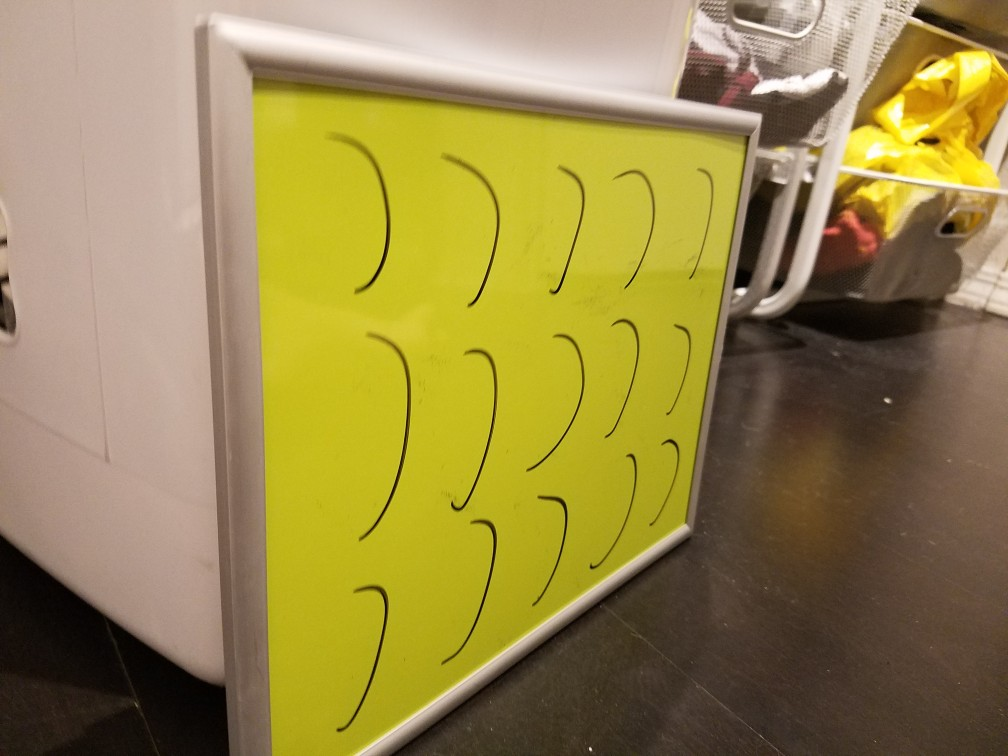): (341, 324, 424, 547), (317, 117, 399, 304), (435, 133, 509, 312), (320, 574, 399, 732), (523, 323, 588, 487), (444, 334, 501, 516), (611, 147, 669, 293), (441, 518, 500, 660), (536, 147, 587, 304), (587, 445, 644, 581), (524, 488, 574, 607), (598, 311, 640, 444), (648, 434, 688, 535), (687, 153, 715, 285), (663, 313, 695, 421)
